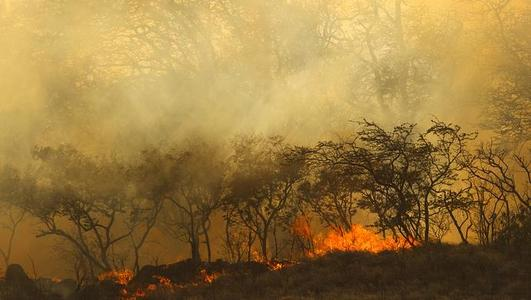fire: (302, 218, 418, 254), (107, 265, 170, 298)
smoke: (20, 10, 476, 135), (12, 215, 72, 274)
